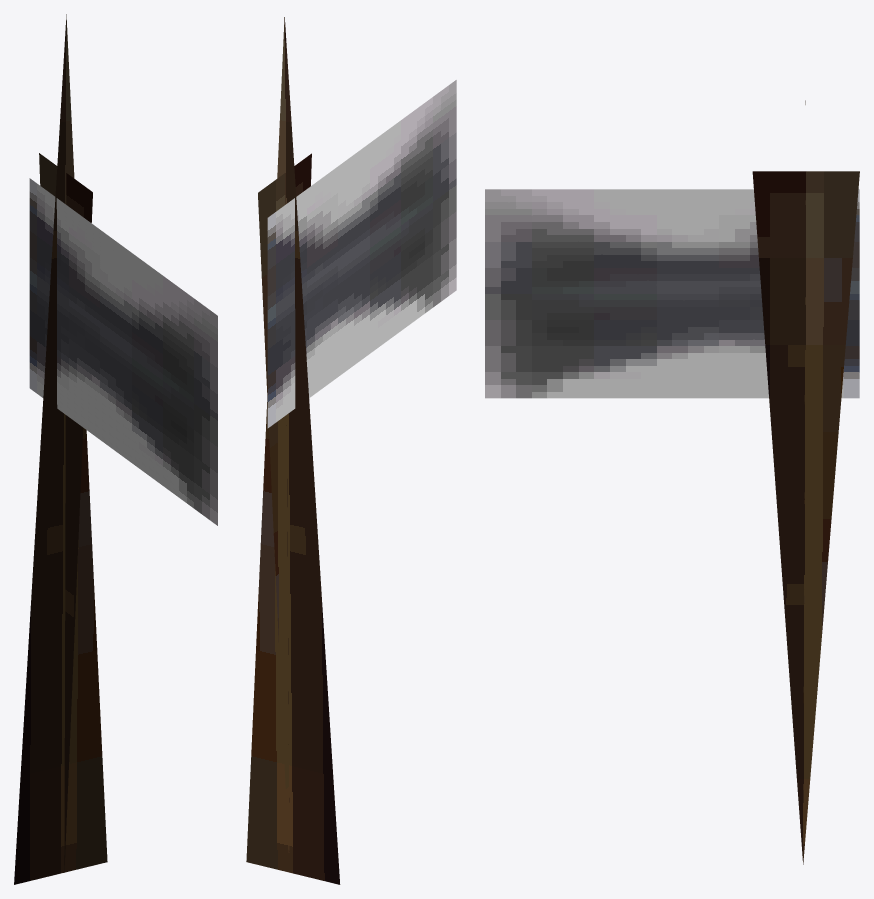
Rendered from axe_base.glb.
The picture shows the model from 3 angles, left to right: view 1: azimuth 30°, elevation 25°; view 2: azimuth 150°, elevation 25°; view 3: azimuth 270°, elevation 25°; orthographic projection.
Visible parts, largest first — view 1: MeshRoot; view 2: MeshRoot; view 3: MeshRoot.
Boxes of the visible parts, x1,y1,x2,y2 form: MeshRoot: (14,14,217,884); MeshRoot: (246,17,456,884); MeshRoot: (485,100,859,864).
Size of the model in its own units: 0.1182 by 1.04 by 0.4126.
Materials: 1 (1 with a texture image).
